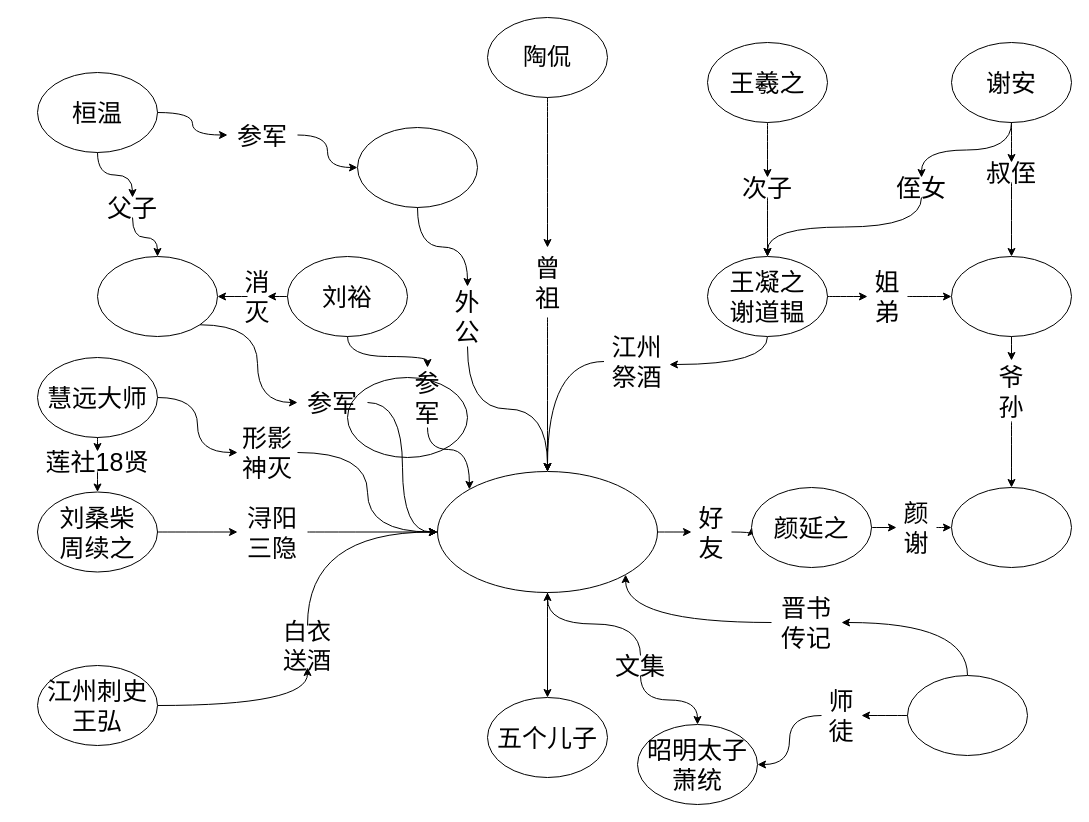
This 1089x822 diagram has some shape labels left out. Here are the shapes that lost their labels. From the top down, the centre of each, then its label:
At point (417, 167): "孟嘉".
At point (157, 296): "桓玄".
At point (1011, 296): "谢玄".
At point (547, 531): "陶渊明 （365或352-427）".
At point (1011, 527): "谢灵运".
At point (967, 715): "沈约".
